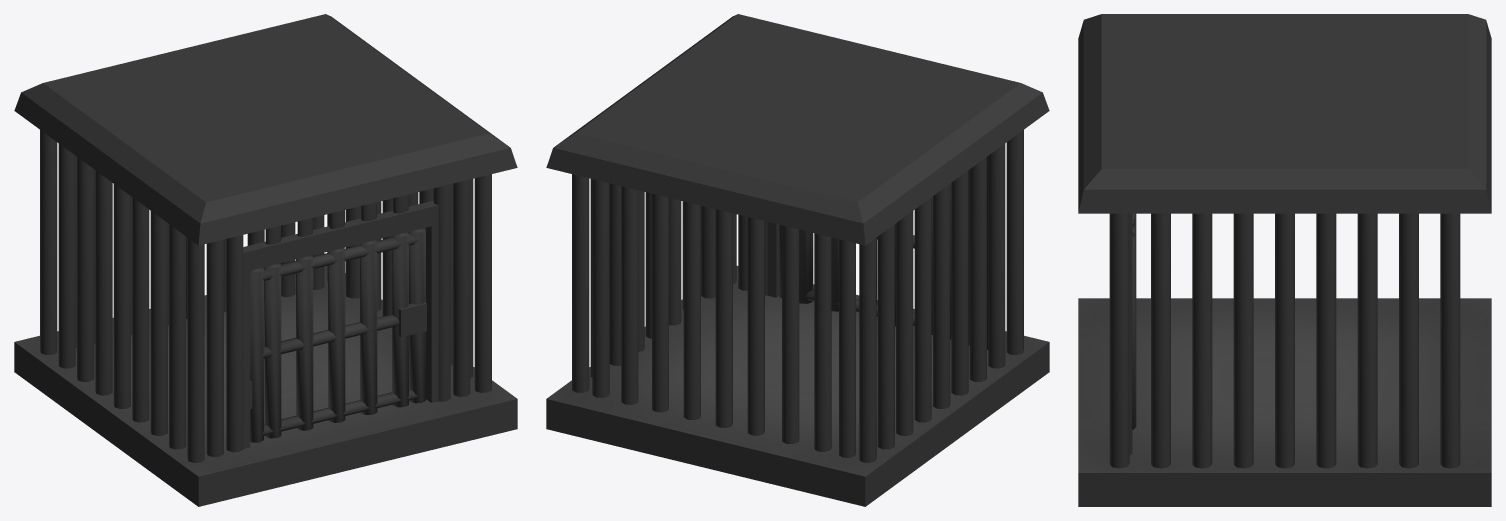
The model's file is Cage.fbx.
The picture shows the model from 3 angles, left to right: view 1: azimuth 30°, elevation 25°; view 2: azimuth 150°, elevation 25°; view 3: azimuth 270°, elevation 25°; orthographic projection. The views are drawn at different scales.
Parts seen in each view (by area): view 1: Cylinder.044, Gate; view 2: Cylinder.044, Gate; view 3: Cylinder.044, Gate.
Part boxes in pixels (bbox=[...]): Cylinder.044: bbox=[14, 14, 517, 506]; Gate: bbox=[250, 228, 426, 442]; Cylinder.044: bbox=[546, 14, 1049, 506]; Gate: bbox=[779, 183, 951, 339]; Cylinder.044: bbox=[1078, 14, 1491, 506]; Gate: bbox=[1132, 213, 1136, 429].
Size of the model in its own units: 200 by 175 by 200.
Materials: 2 (2 with a texture image).
